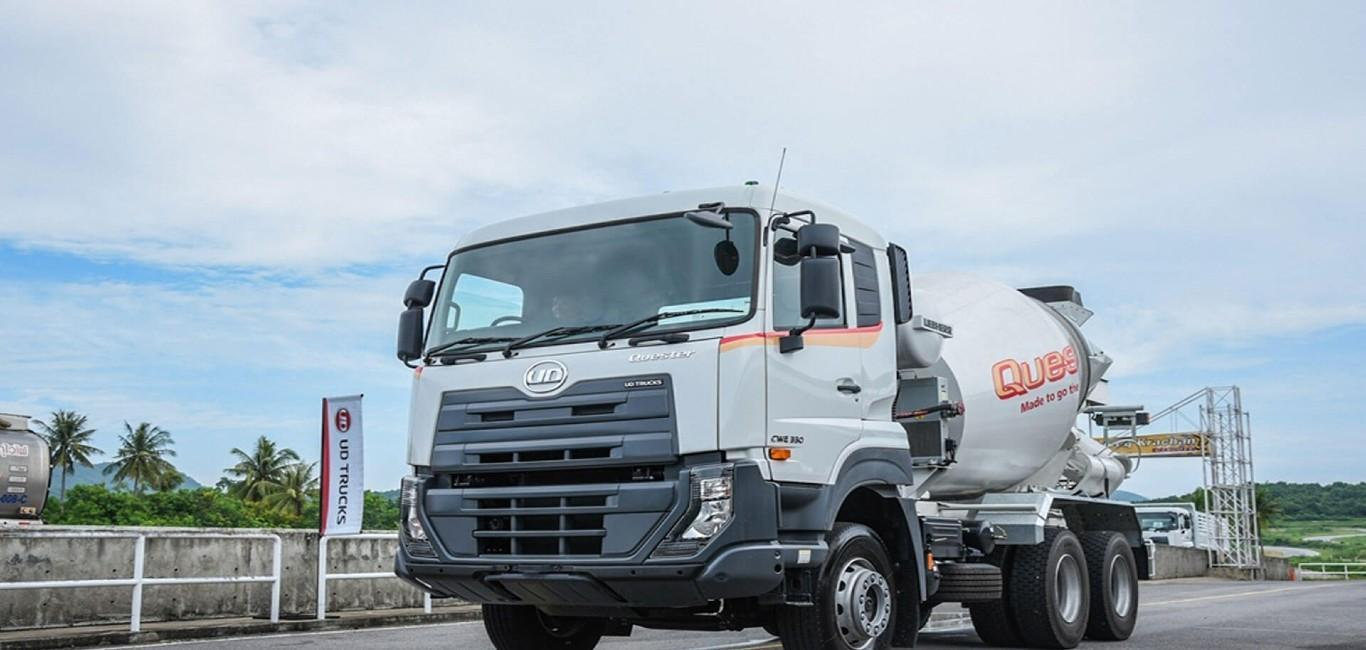truck: (392, 179, 1146, 650)
